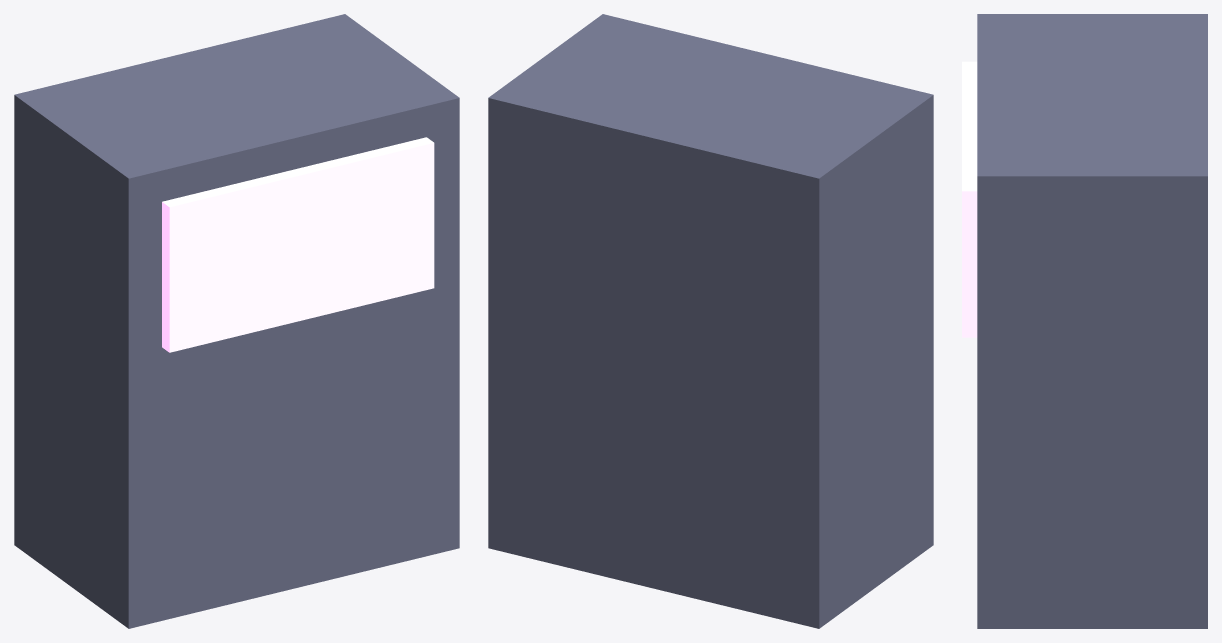
Rendered from neon_console.glb.
3 renders of one model, left to right at view 1: azimuth 30°, elevation 25°; view 2: azimuth 150°, elevation 25°; view 3: azimuth 270°, elevation 25°, orthographic.
Visible parts, largest first — view 1: base, screen; view 2: base; view 3: base, screen.
Boxes of the visible parts, bbox=[...] form: base: bbox=[14, 14, 459, 628]; screen: bbox=[162, 137, 434, 352]; base: bbox=[488, 14, 933, 628]; base: bbox=[977, 14, 1207, 628]; screen: bbox=[962, 61, 977, 337].
Bounding box in the file's own units: 1 × 1.3 × 0.64.
